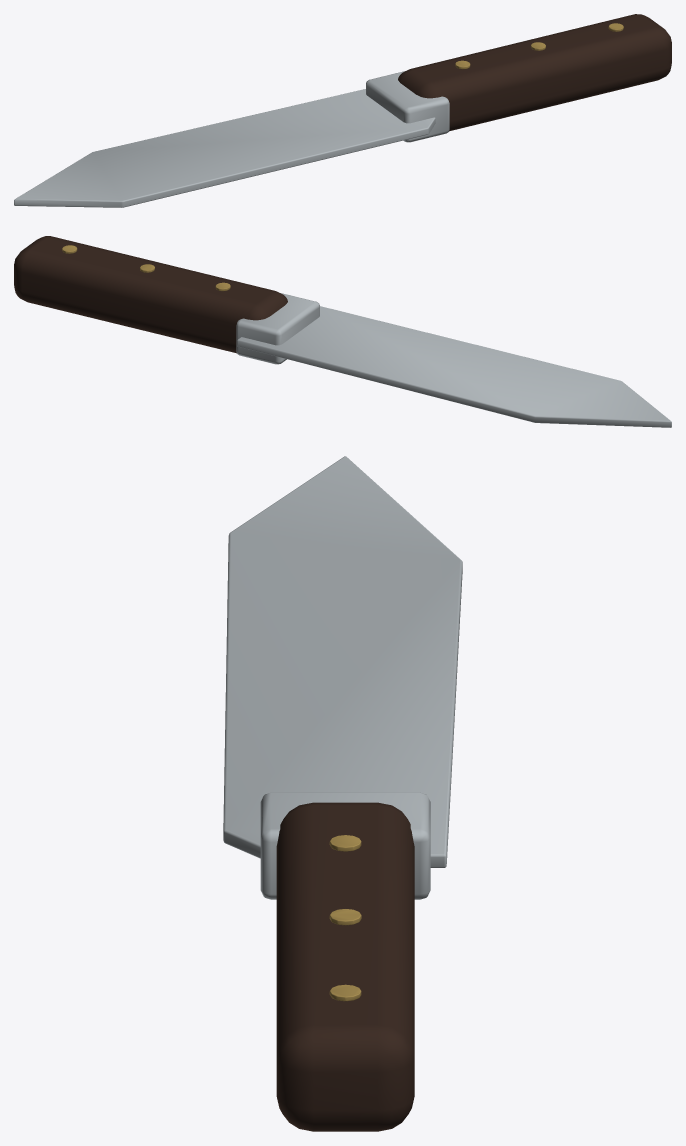
The model's file is rpg-mansion-mystery-knife-01.glb.
3 views of the same model, one above another, from view 1: azimuth 30°, elevation 25°; view 2: azimuth 150°, elevation 25°; view 3: azimuth 270°, elevation 25° (orthographic). The views are drawn at different scales.
Visible parts, largest first — view 1: rpg-mansion-mystery-knife-01; view 2: rpg-mansion-mystery-knife-01; view 3: rpg-mansion-mystery-knife-01.
Part boxes in pixels (bbox=[...]): rpg-mansion-mystery-knife-01: bbox=[14, 14, 671, 207]; rpg-mansion-mystery-knife-01: bbox=[14, 236, 671, 427]; rpg-mansion-mystery-knife-01: bbox=[223, 456, 462, 1131].
Size of the model in its own units: 0.3 by 0.024 by 0.048.
